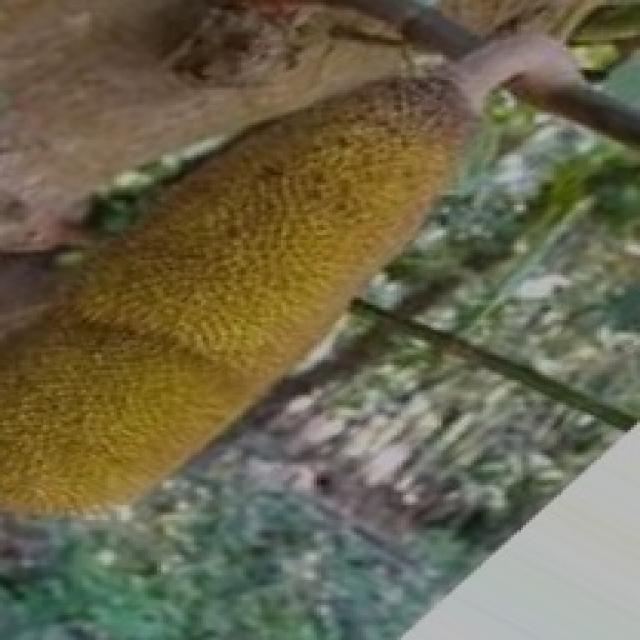Fruit: (98, 15, 520, 387), (0, 165, 391, 557)
